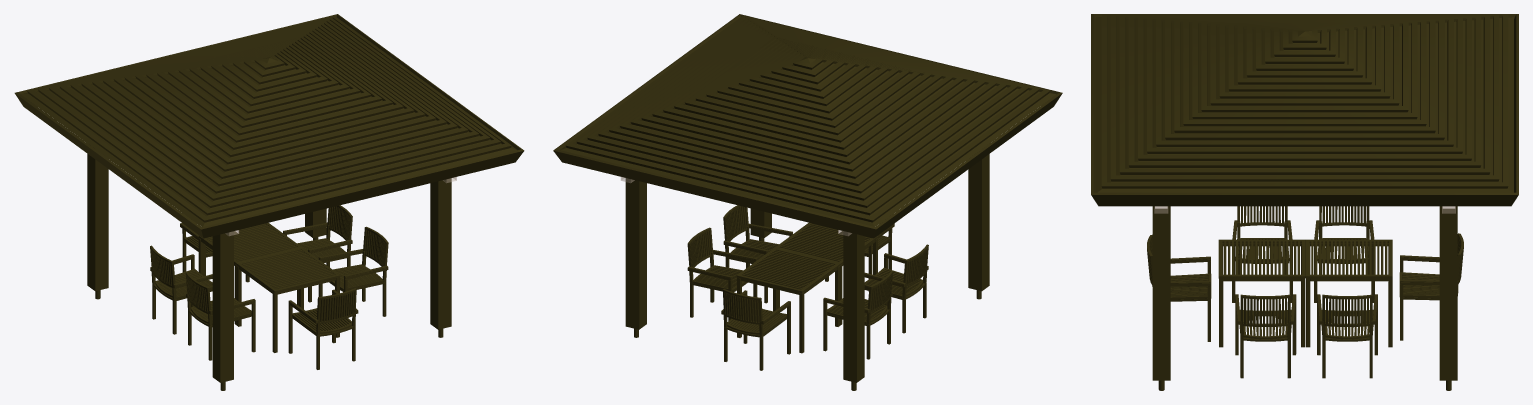
The model's file is picnic_gazibo_2.glb.
The picture shows the model from 3 angles, left to right: view 1: azimuth 30°, elevation 25°; view 2: azimuth 150°, elevation 25°; view 3: azimuth 270°, elevation 25°; orthographic projection. The views are drawn at different scales.
Visible parts, largest first — view 1: Outdoor1-dec; view 2: Outdoor1-dec; view 3: Outdoor1-dec.
Boxes of the visible parts, <box> form: Outdoor1-dec: <box>14,14,524,390</box>; Outdoor1-dec: <box>553,14,1062,390</box>; Outdoor1-dec: <box>1091,14,1518,390</box>.
Size of the model in its own units: 1.41 by 1.08 by 1.41.
